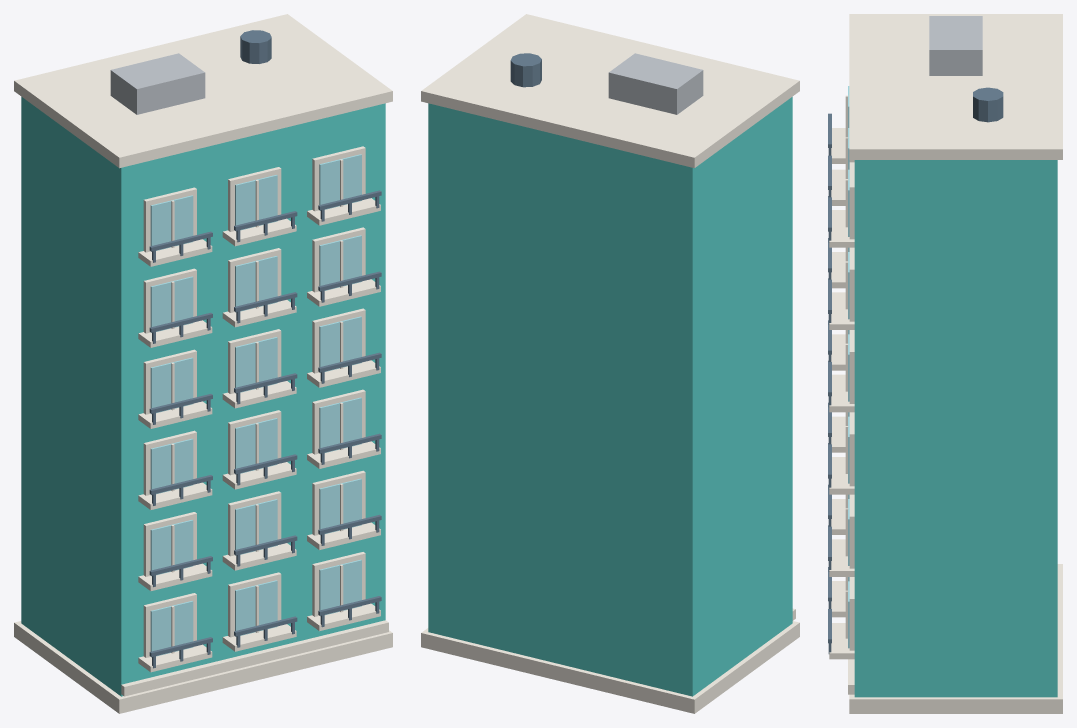
The model's file is 07_apartment_tall.glb.
3 renders of one model, left to right at view 1: azimuth 30°, elevation 25°; view 2: azimuth 150°, elevation 25°; view 3: azimuth 270°, elevation 25°, orthographic.
Parts seen in each view (by area): view 1: 07_apartment_tall; view 2: 07_apartment_tall; view 3: 07_apartment_tall.
Boxes of the visible parts, x1,y1,x2,y2 form: 07_apartment_tall: (14,14,392,713); 07_apartment_tall: (421,14,799,713); 07_apartment_tall: (828,14,1062,713).
Bounding box in the file's own units: 6 × 12.2 × 4.39.
